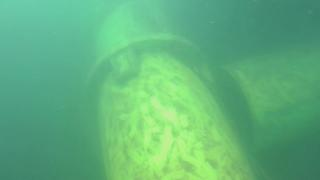pipe: (77, 4, 257, 180), (205, 51, 320, 146)
